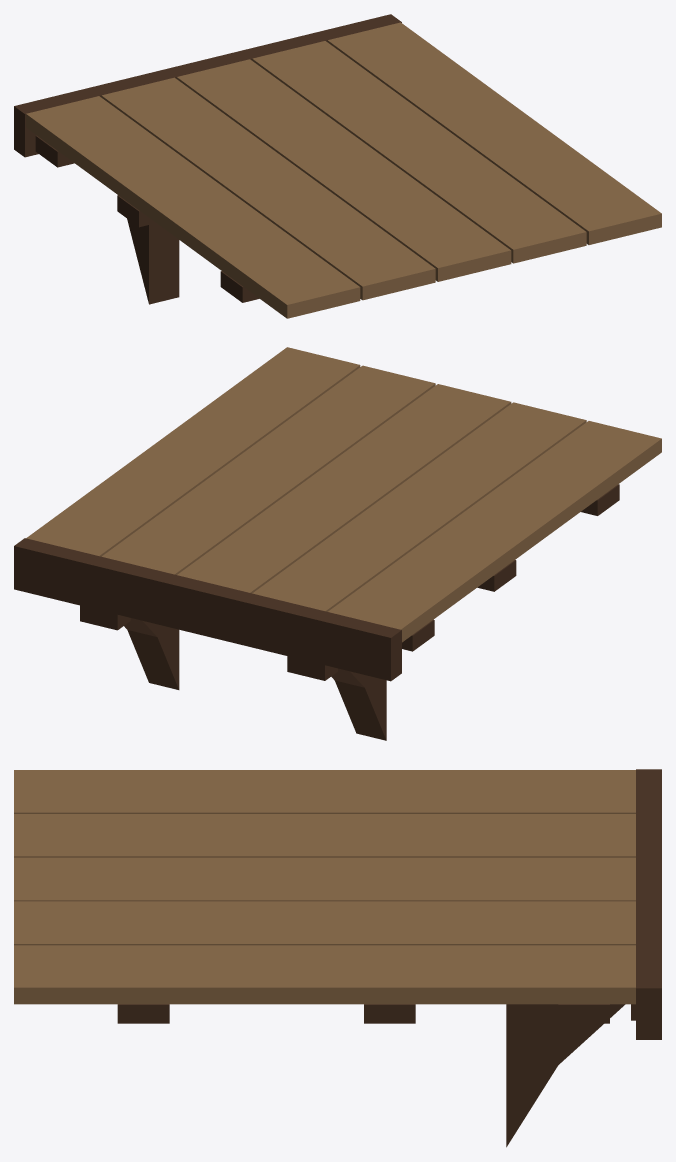
Rendered from floor_jetty_lod0.glb.
The picture shows the model from 3 angles, top to bottom: view 1: azimuth 30°, elevation 25°; view 2: azimuth 150°, elevation 25°; view 3: azimuth 270°, elevation 25°; orthographic projection. The views are drawn at different scales.
Visible parts, largest first — view 1: floor_jetty; view 2: floor_jetty; view 3: floor_jetty.
Boxes of the visible parts, left/top/right/bottom form: floor_jetty: left=14, top=14, right=661, bottom=318; floor_jetty: left=14, top=347, right=661, bottom=740; floor_jetty: left=14, top=769, right=661, bottom=1147.
Bounding box in the file's own units: 2 × 0.85 × 2.5.
